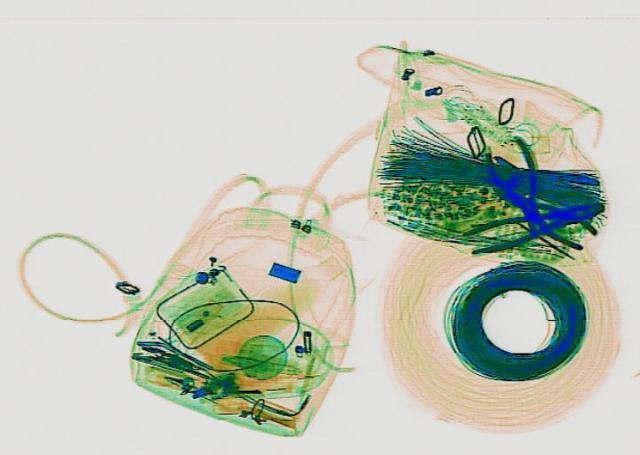Pliers: (456, 192, 610, 255), (471, 134, 564, 229)
